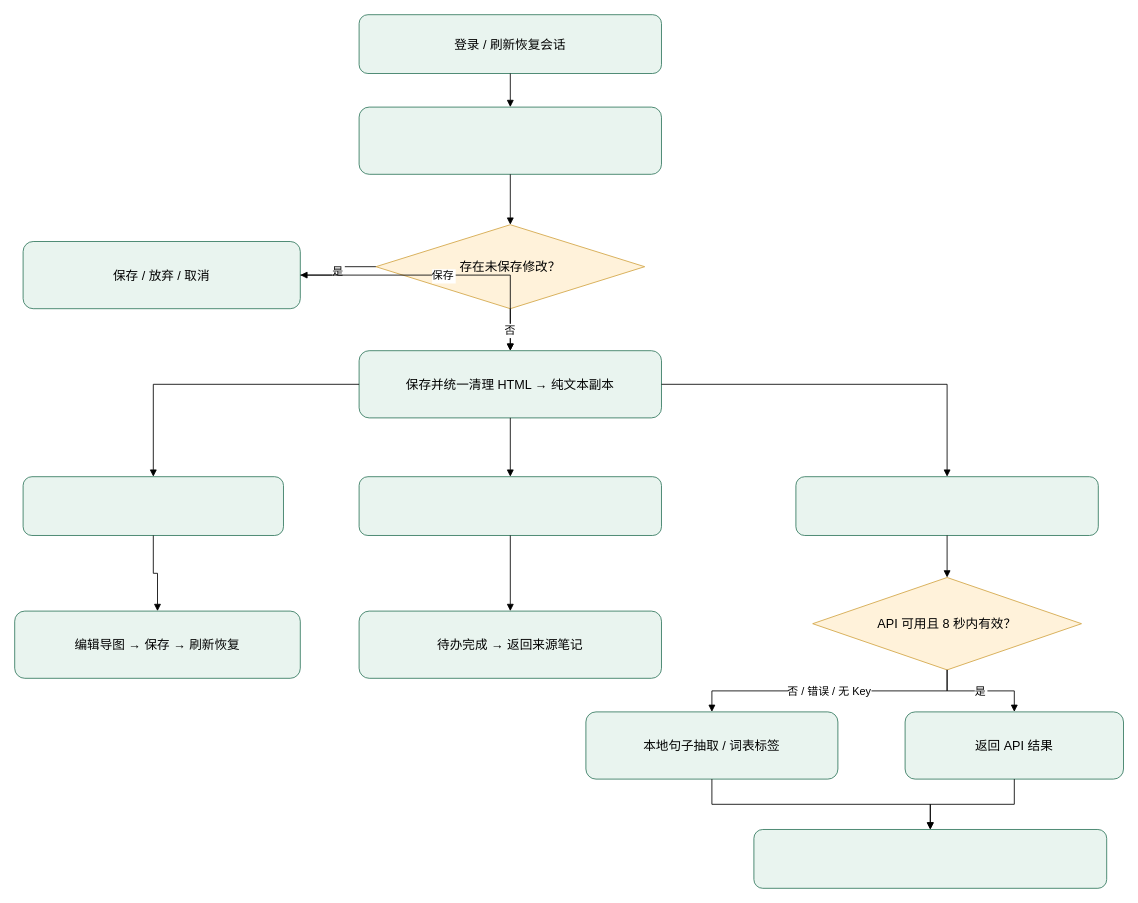
This 1138x903 diagram has some shape labels left out. Each missing label, with the centre of its shape:
"AI 摘要 / 标签（前 10000 字）" belongs at point 946,506.
"创建关联待办" belongs at point 510,506.
"生成导图" belongs at point 153,506.
"编辑笔记（标题、正文、图片、标签）" belongs at point 510,140.
"预览 → 复制摘要 / 合并勾选标签" belongs at point 930,858.
